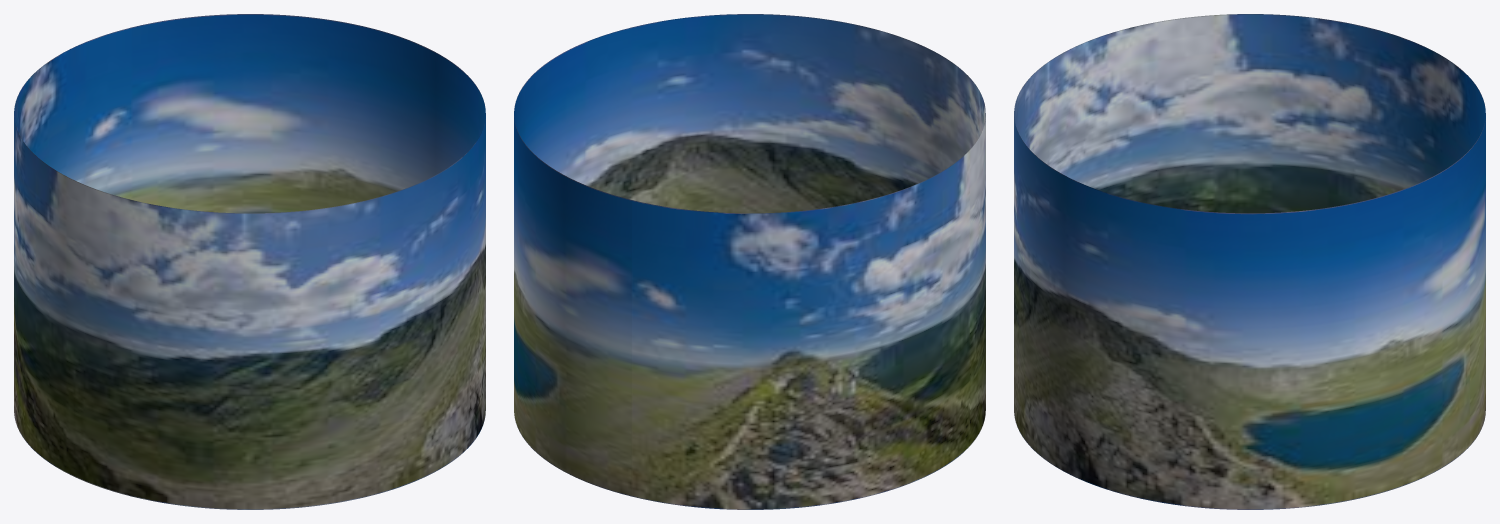
The model's file is Hill.FBX.
3 views of the same model, side by side, from view 1: azimuth 30°, elevation 25°; view 2: azimuth 150°, elevation 25°; view 3: azimuth 270°, elevation 25° (orthographic).
Visible parts, largest first — view 1: Plane004; view 2: Plane004; view 3: Plane004.
Part boxes in pixels (left/top/right/bottom): Plane004: left=14, top=14, right=485, bottom=509; Plane004: left=514, top=14, right=985, bottom=509; Plane004: left=1014, top=14, right=1485, bottom=509.
Size of the model in its own units: 62677 by 43479 by 62672.
